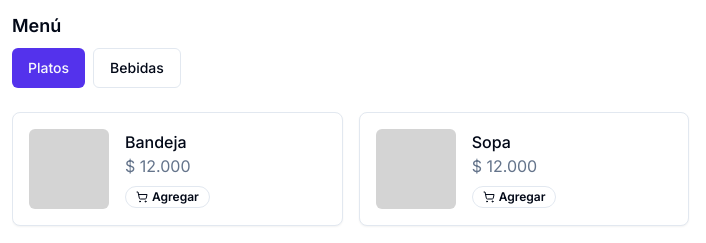
MenuSection — cached menu (T6/S1/S2) › serves an already-loaded category from the cache when picked again
The width and height of the screenshot is (706, 243).
Expected: the heading "Bandeja" is shown, [125,132,187,152]
Click the button "Bebidas" at (137, 68), box [93,48,181,88]
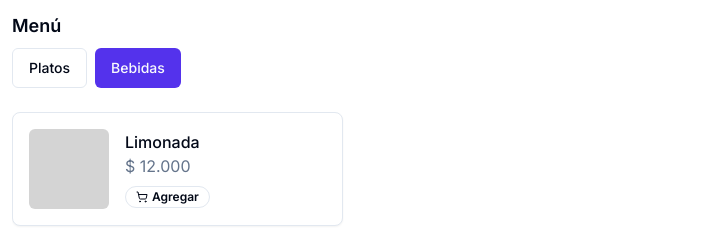
Expected: the heading "Limonada" is shown, [125,130,210,154]
Click the button "Platos" at (50, 68), box [12,48,87,88]
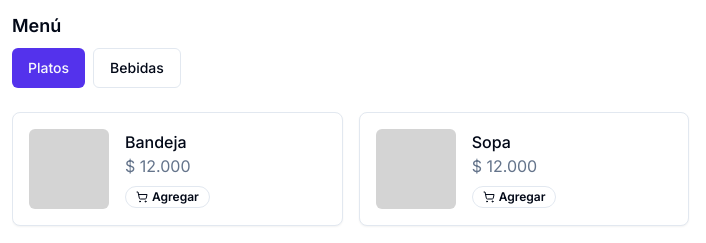
Expected: the heading "Bandeja" is shown, [125,132,187,152]
